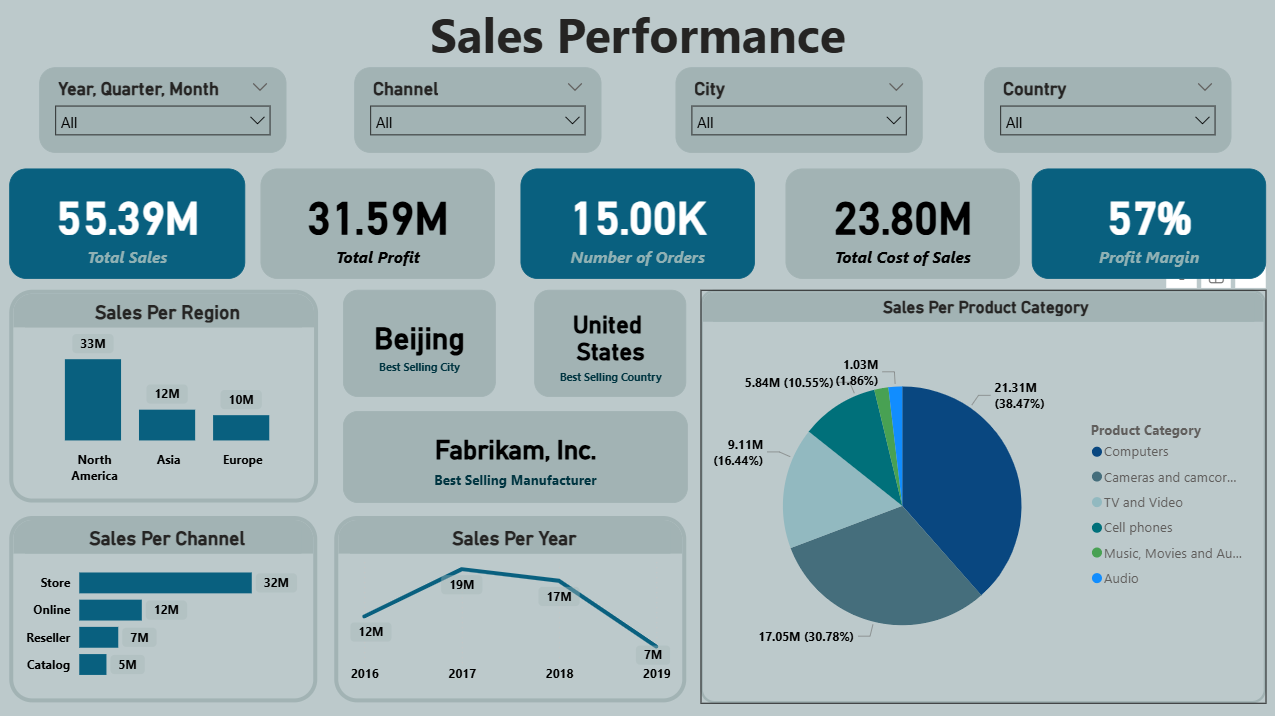

The dashboard page shown, as its layout file describes it:
{"tool":"powerbi","page":{"name":"Page 1","canvas":[1280,720],"ordinal":0},"visuals":[{"type":"textbox","box":[392,0,496,128.3],"z":0},{"type":"card","fields":{"Values":["Sum(Data1.Sales)"]},"box":[22.8,172.5,246.6,109.8],"z":1000},{"type":"card","fields":{"Values":["Sum(Data1.Profit)"]},"box":[373.5,172.5,246.6,109.8],"z":2000},{"type":"card","fields":{"Values":["Count(Data1.Order ID)"]},"box":[702.7,172.5,248,109.8],"z":3000},{"type":"card","fields":{"Values":["Sum(Data1.Cost of Sales)"]},"box":[1022,172.5,246.6,109.8],"z":4000},{"type":"clusteredColumnChart","title":" Sales Per Region","fields":{"Y":["Sum(Data1.Sales)"],"Category":["Data1.Region"]},"box":[11,293.7,308.7,212.7],"z":5000},{"type":"clusteredBarChart","title":"Sales Per Channel","fields":{"Category":["Data1.Channel"],"Y":["Sum(Data1.Sales)"]},"box":[11.4,520.3,307.9,186.7],"z":6000},{"type":"lineChart","title":"Sales Per Year","fields":{"Category":["Data1.Order Date.Variation.Date Hierarchy.Year"],"Y":["Sum(Data1.Sales)"]},"box":[336.4,520.3,352.1,186.7],"z":7000},{"type":"pieChart","fields":{"Y":["Sum(Data1.Sales)"],"Category":["Data1.Product Category"]},"box":[702.7,293.6,565.9,413.4],"z":8000},{"type":"card","fields":{"Values":["Min(Data1.City)"]},"box":[344.9,293.6,152.5,106.9],"z":9000},{"type":"card","fields":{"Values":["Min(Data1.Manufacturer)"]},"box":[344.4,414.4,344.4,91.9],"z":10000},{"type":"card","fields":{"Values":["Min(Data1.Country)"]},"box":[516,293.6,152.5,106.9],"z":11000},{"type":"slicer","fields":{"Values":["Data1.Order Date.Variation.Date Hierarchy.Year","Data1.Order Date.Variation.Date Hierarchy.Quarter","Data1.Order Date.Variation.Date Hierarchy.Month"]},"box":[24.2,71.3,246.6,85.5],"z":12000},{"type":"slicer","fields":{"Values":["Data1.Channel"]},"box":[373.5,71.3,246.6,85.5],"z":13000},{"type":"slicer","fields":{"Values":["Data1.City"]},"box":[702.7,71.3,246.6,85.5],"z":14000},{"type":"slicer","fields":{"Values":["Data1.Country"]},"box":[1022,71.3,246.6,85.5],"z":15000}]}

Visuals, with their boxes in screenshot pixels (x1, y1, x2, y2), scaled from the page's 1280x720 canvas onto the 1275x716 screenshot:
textbox: bbox(390, 0, 885, 128)
card - Sum(Data1.Sales): bbox(23, 172, 268, 281)
card - Sum(Data1.Profit): bbox(372, 172, 618, 281)
card - Count(Data1.Order ID): bbox(700, 172, 947, 281)
card - Sum(Data1.Cost of Sales): bbox(1018, 172, 1264, 281)
" Sales Per Region" clusteredColumnChart: bbox(11, 292, 318, 504)
"Sales Per Channel" clusteredBarChart: bbox(11, 517, 318, 703)
"Sales Per Year" lineChart: bbox(335, 517, 686, 703)
pieChart - Sum(Data1.Sales) x Data1.Product Category: bbox(700, 292, 1264, 703)
card - Min(Data1.City): bbox(344, 292, 495, 398)
card - Min(Data1.Manufacturer): bbox(343, 412, 686, 503)
card - Min(Data1.Country): bbox(514, 292, 666, 398)
slicer - Data1.Order Date.Variation.Date Hierarchy.Year x Data1.Order Date.Variation.Date Hierarchy.Quarter: bbox(24, 71, 270, 156)
slicer - Data1.Channel: bbox(372, 71, 618, 156)
slicer - Data1.City: bbox(700, 71, 946, 156)
slicer - Data1.Country: bbox(1018, 71, 1264, 156)
